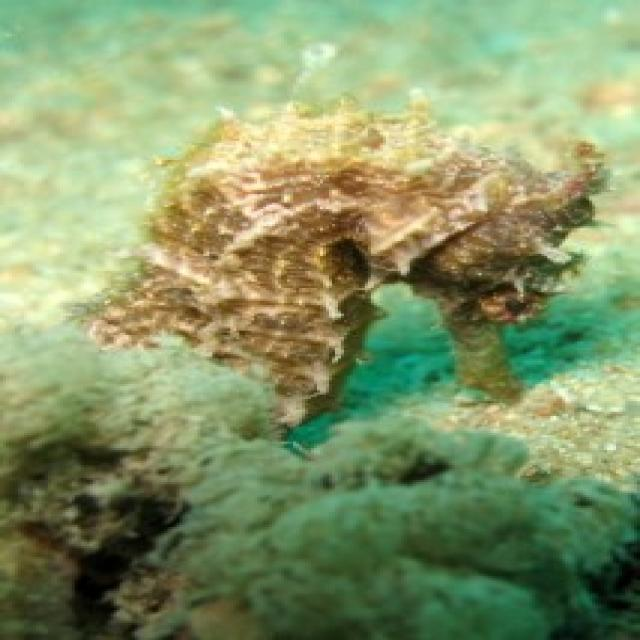Seahorse: (117, 93, 634, 347)
